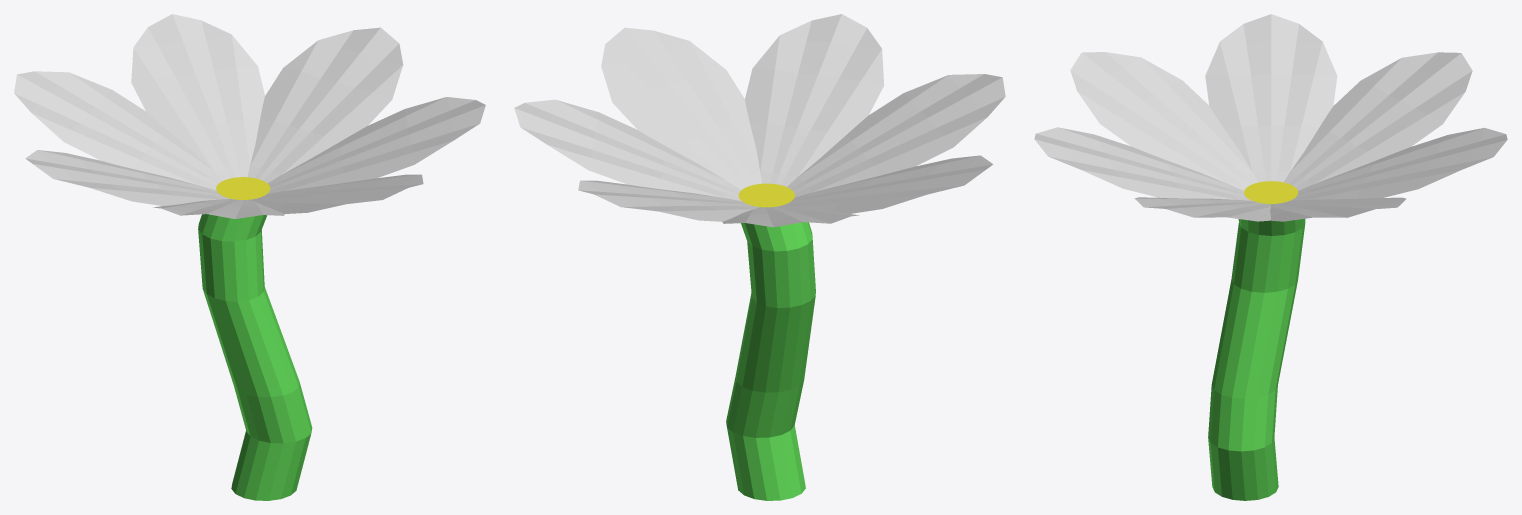
The model's file is Flower.fbx.
The picture shows the model from 3 angles, left to right: view 1: azimuth 30°, elevation 25°; view 2: azimuth 150°, elevation 25°; view 3: azimuth 270°, elevation 25°; orthographic projection. The views are drawn at different scales.
Visible parts, largest first — view 1: Circle, Circle.001, Circle.002; view 2: Circle, Circle.001, Circle.002; view 3: Circle, Circle.001, Circle.002.
Part boxes in pixels (<box>): Circle: <box>14,14,485,218</box>; Circle.001: <box>198,199,312,500</box>; Circle.002: <box>216,177,270,199</box>; Circle: <box>514,14,1005,227</box>; Circle.001: <box>726,207,815,500</box>; Circle.002: <box>738,183,794,207</box>; Circle: <box>1034,14,1507,221</box>; Circle.001: <box>1208,204,1305,500</box>; Circle.002: <box>1244,181,1298,203</box>.
Size of the model in its own units: 643 by 556 by 652.
